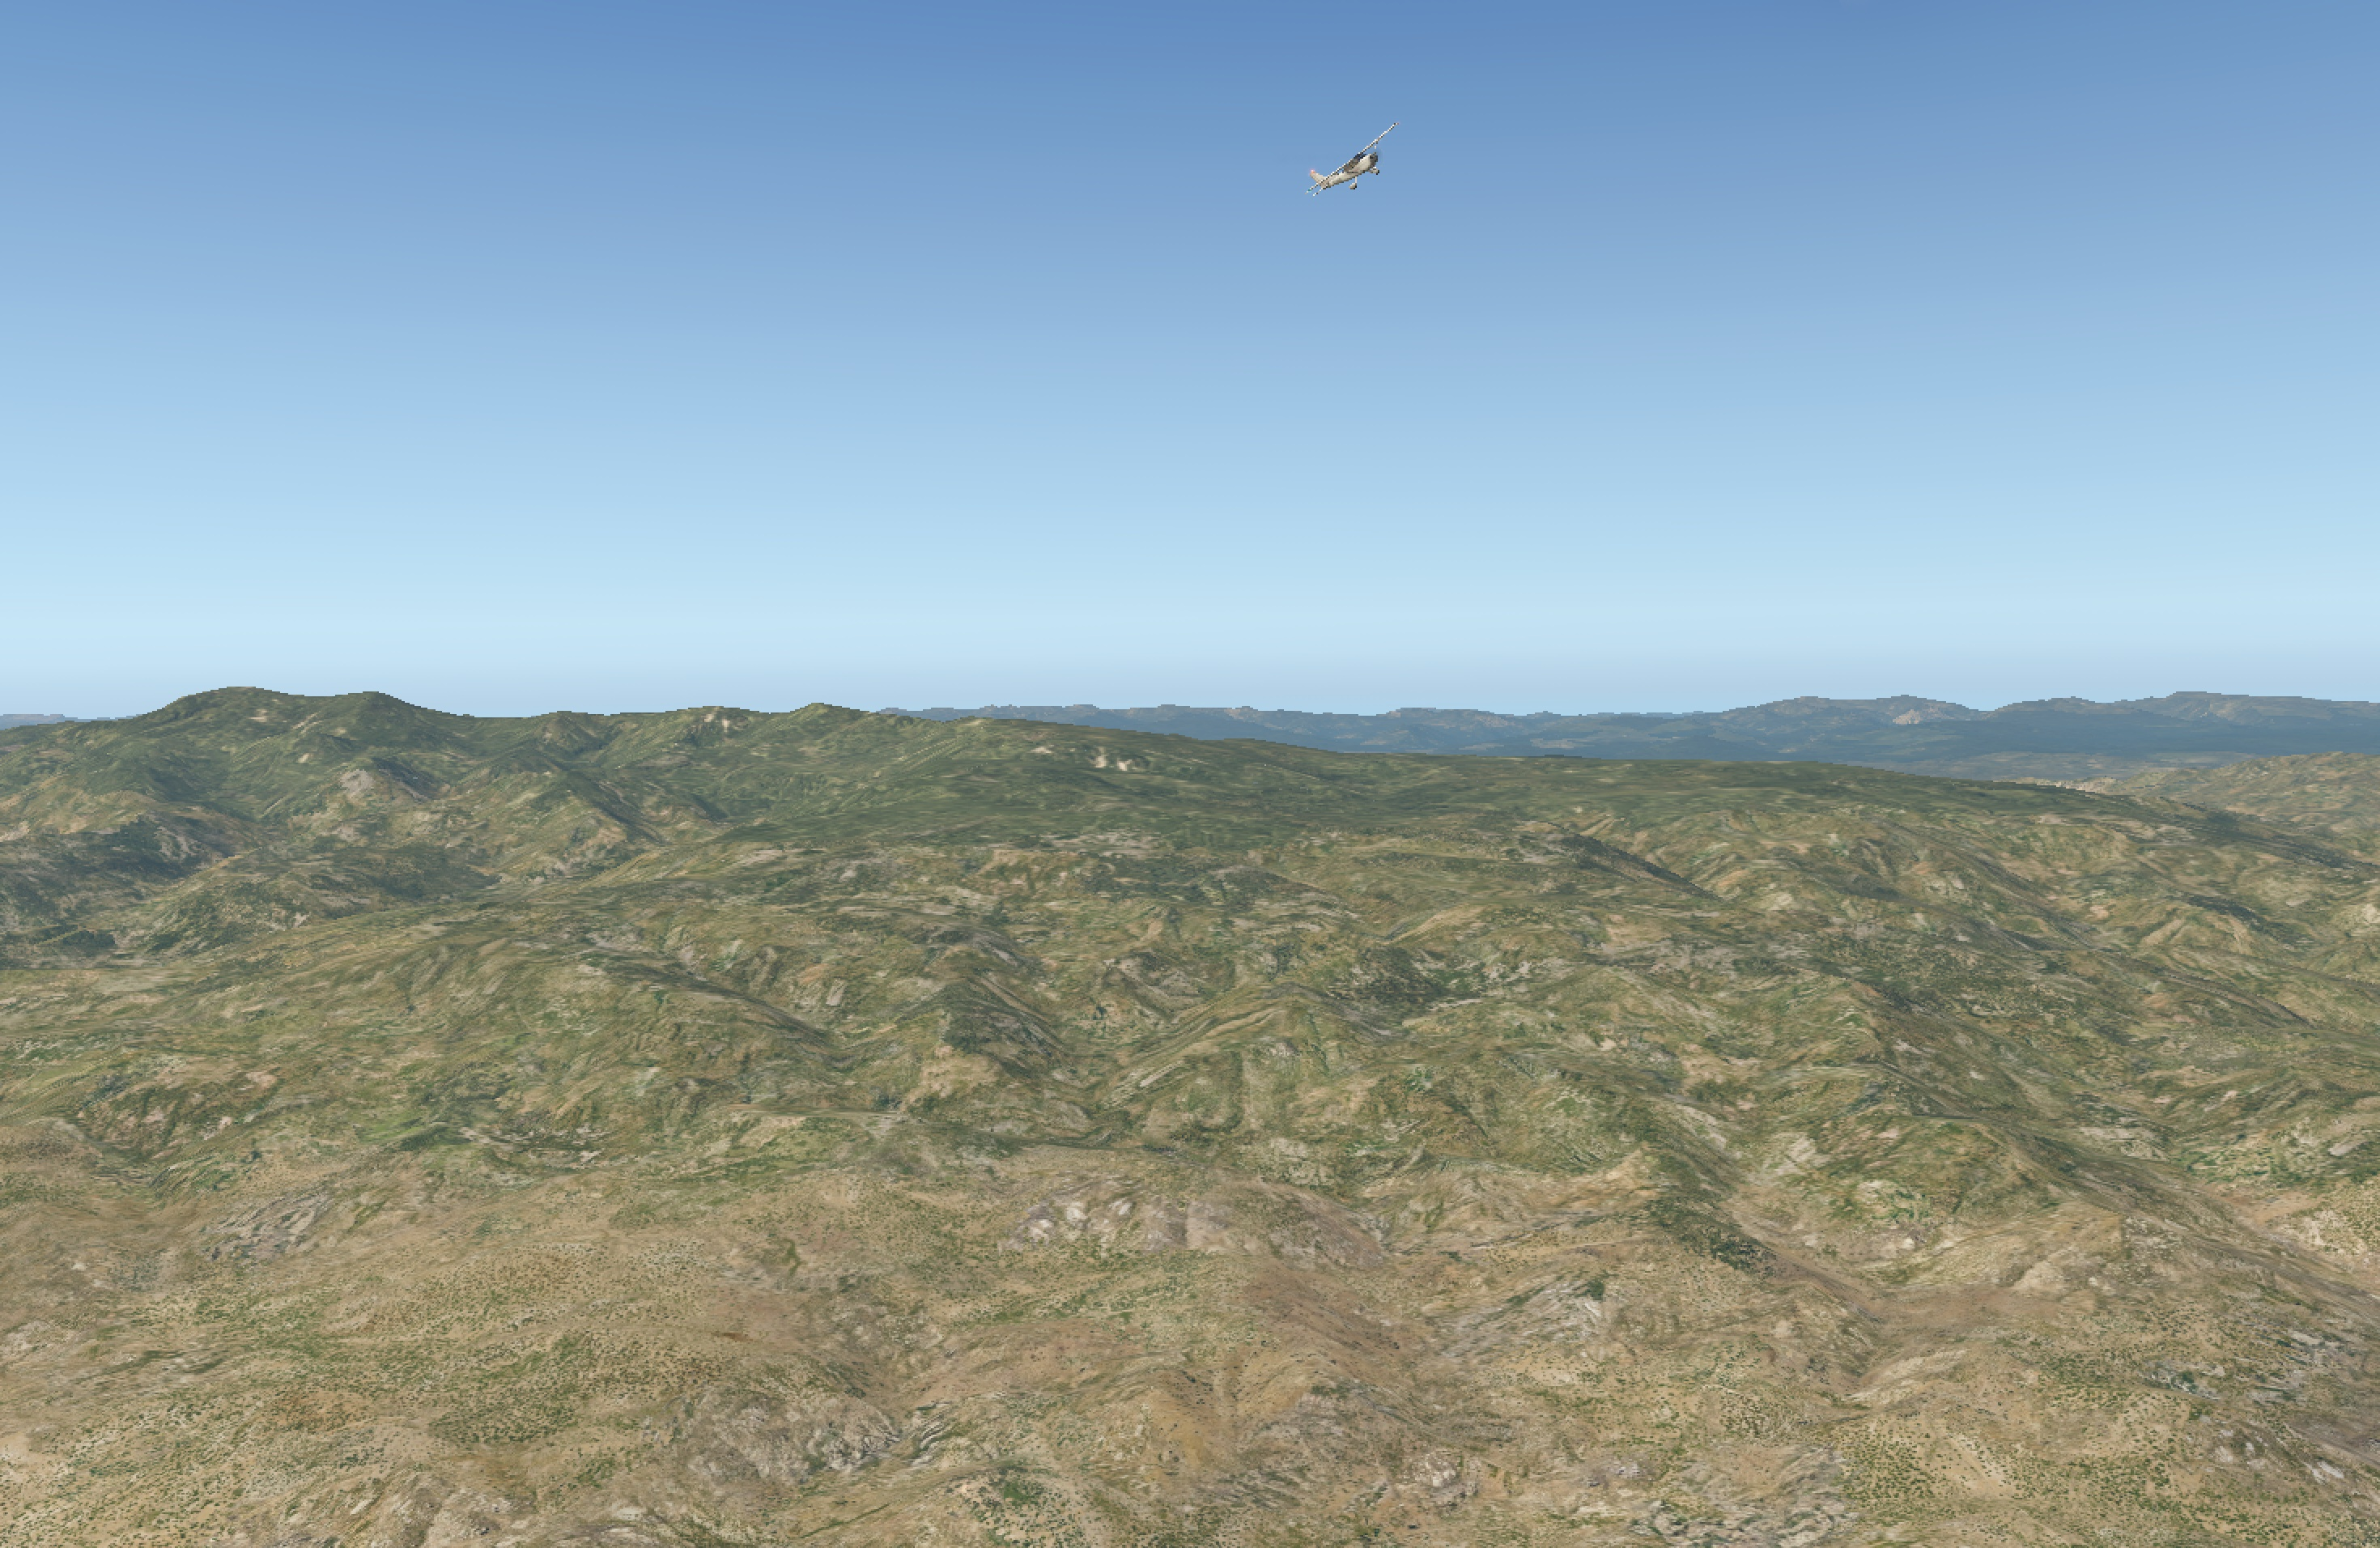aircraft: (1310, 146, 1407, 182)
